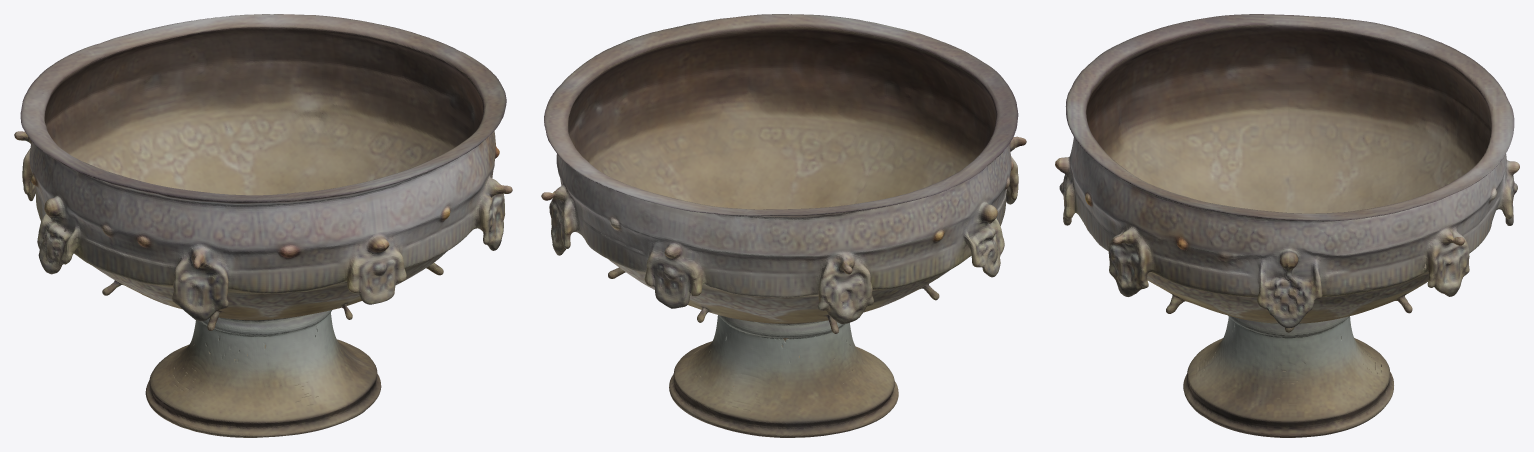
Rendered from An_Antique_Islamic_Ornamental_Bowl.glb.
3 views of the same model, side by side, from view 1: azimuth 30°, elevation 25°; view 2: azimuth 150°, elevation 25°; view 3: azimuth 270°, elevation 25° (orthographic). The views are drawn at different scales.
Parts seen in each view (by area): view 1: An_Antique_Islamic_Ornamental_Bowl; view 2: An_Antique_Islamic_Ornamental_Bowl; view 3: An_Antique_Islamic_Ornamental_Bowl.
Boxes of the visible parts, x1,y1,x2,y2 form: An_Antique_Islamic_Ornamental_Bowl: (14, 14, 512, 437); An_Antique_Islamic_Ornamental_Bowl: (541, 14, 1026, 437); An_Antique_Islamic_Ornamental_Bowl: (1055, 14, 1519, 437).
Bounding box in the file's own units: 0.9984 × 0.6415 × 0.9564.
